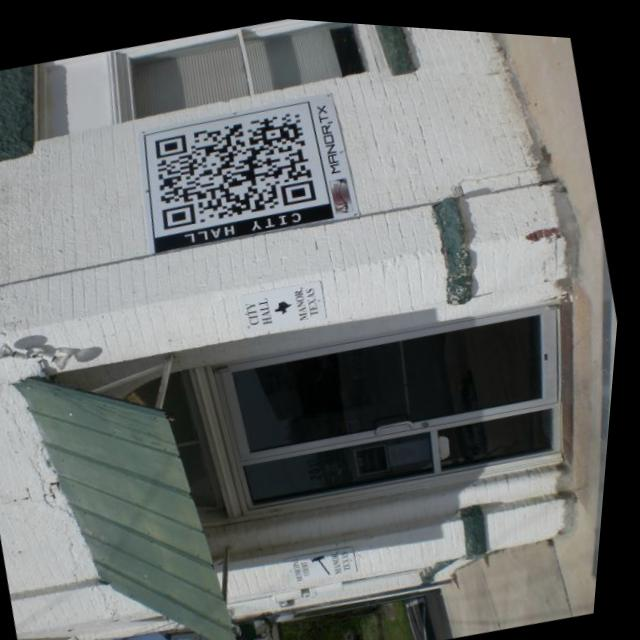qrcode: (146, 98, 325, 233)
